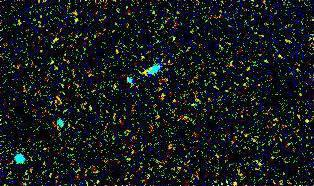star: (294, 107, 314, 137)
